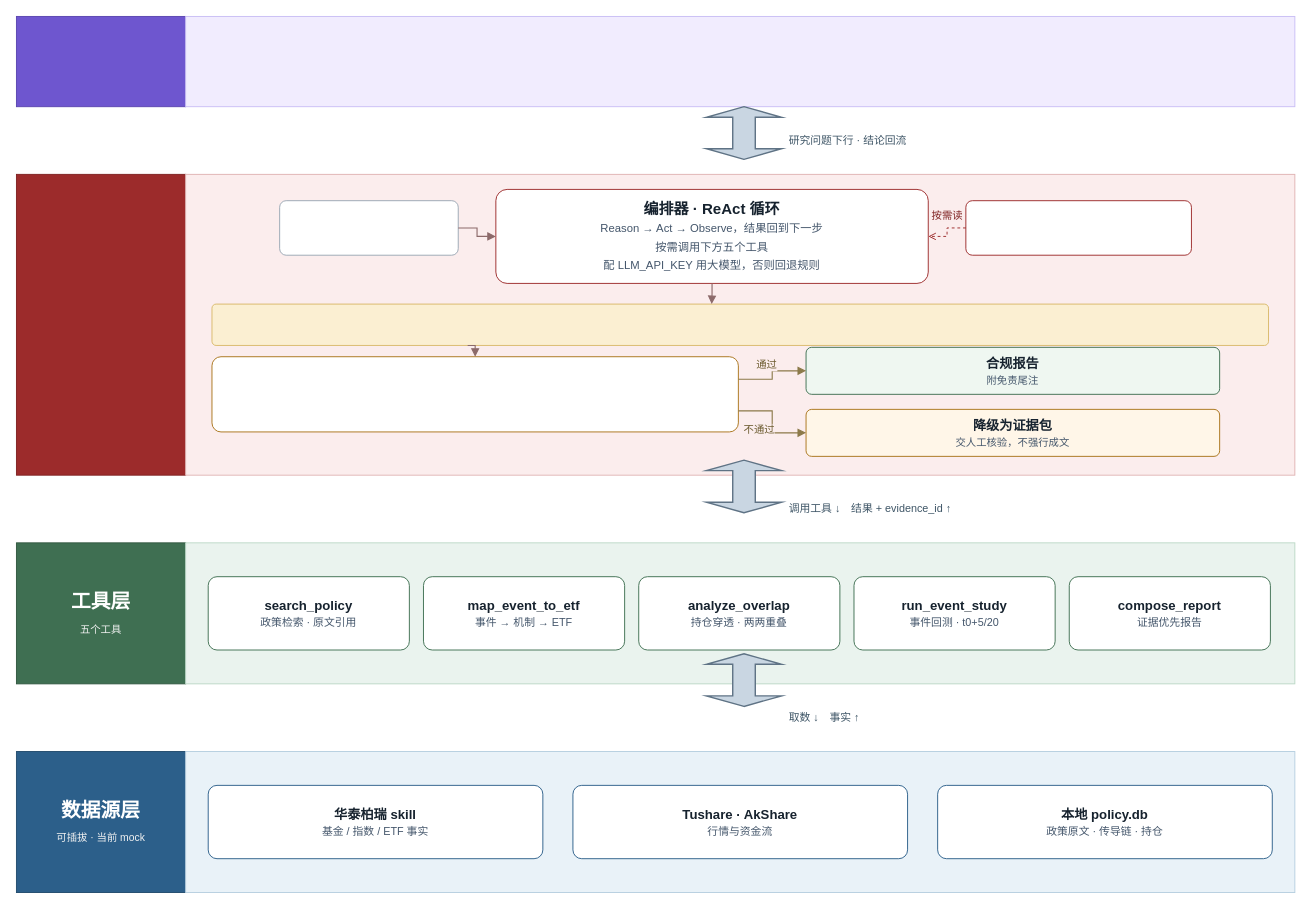
The diagram is 1311 pixels wide and 909 high, and some of its shapes have lost their labels. The shapes that lost their labels are listed below. From the top down, each one's centre as x and y in pixels, then its label:
At point (101, 61): "策略层 决策目标".
At point (740, 61): "事件消融 · 因子与组合 · 样本外验证 · 轮动信号".
At point (368, 227): "用户问题 自然语言提问".
At point (1078, 227): "catalog.md 语义目录：问法 → tool_id".
At point (101, 324): "推理与证据 Agent 核心".
At point (740, 324): "证据链 每个工具返回 evidence_id ，没有证据的结果不得进入结论".
At point (474, 394): "输出护栏 · 4 道闸门 结论先至 · 禁用语 · 无效值 · 证据必填".
